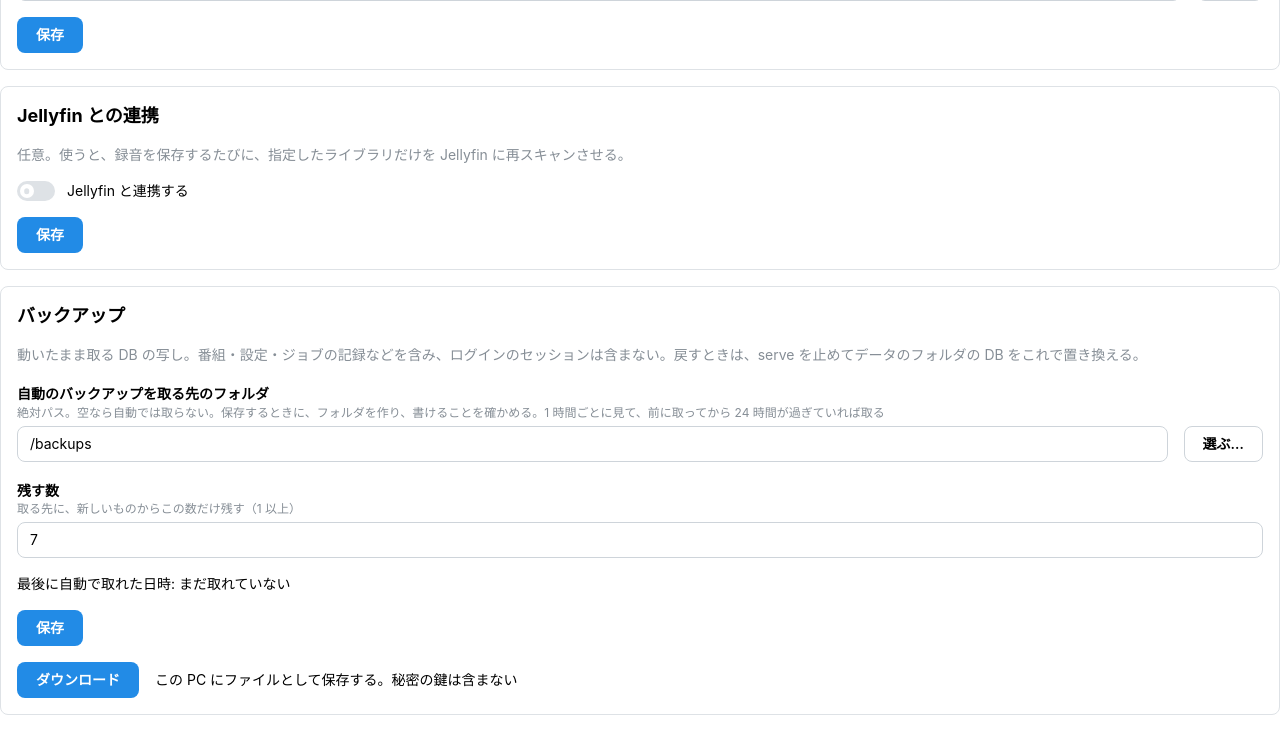
SettingsPage のバックアップ › API が断ったら、その理由を欄に出し、保存させない
This screenshot has width=1280, height=732.
(page scrolled)
Click the button "ダウンロード". click: (78, 680)
box: [17,662,139,698]
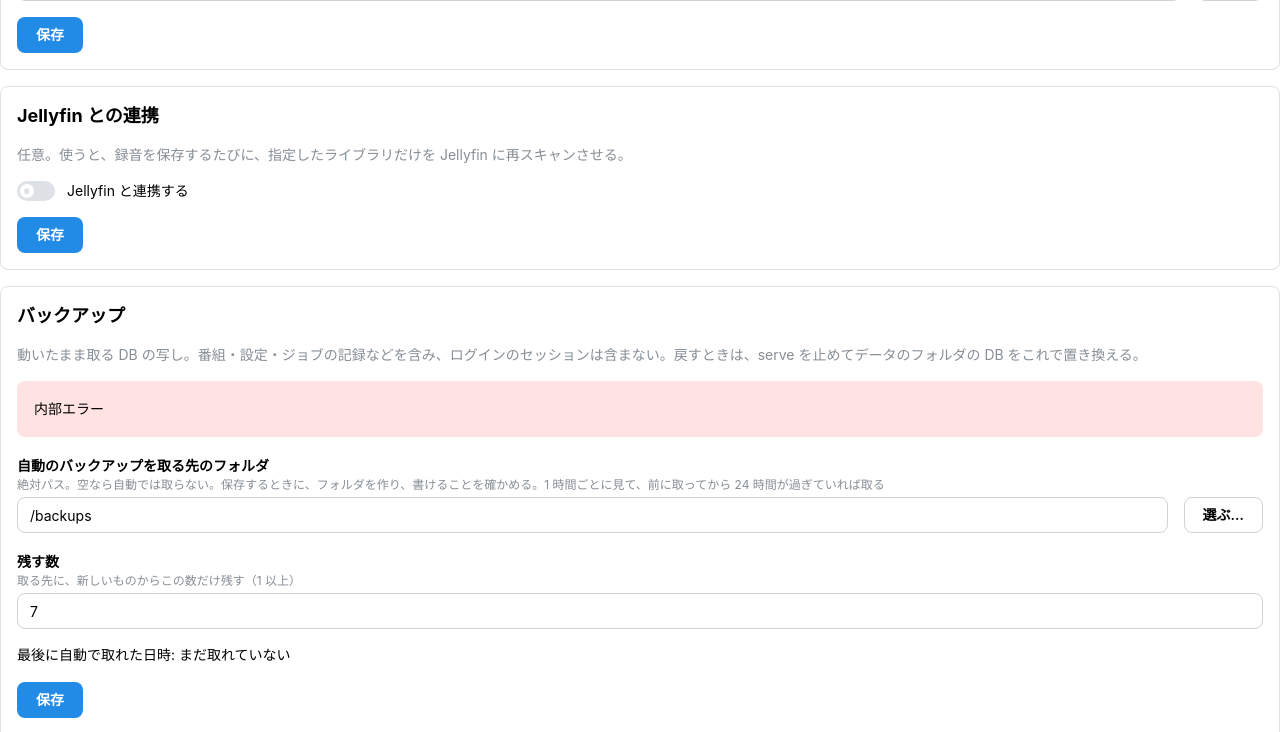
Expected: the message reads "内部エラー", [34,400,104,417]
